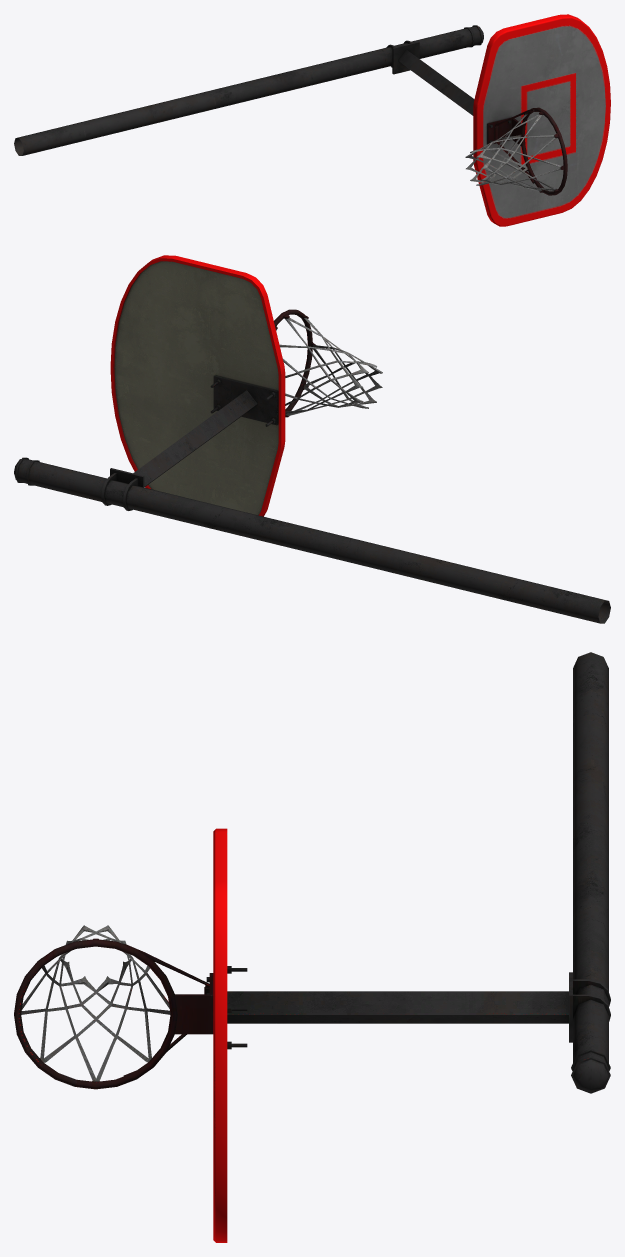
The model's file is cP_BasketballHoop.dae.
3 renders of one model, top to bottom at view 1: azimuth 30°, elevation 25°; view 2: azimuth 150°, elevation 25°; view 3: azimuth 270°, elevation 25°, orthographic. The views are drawn at different scales.
Visible parts, largest first — view 1: cP_BasketballHoop.001; view 2: cP_BasketballHoop.001; view 3: cP_BasketballHoop.001.
Boxes of the visible parts, x1,y1,x2,y2 form: cP_BasketballHoop.001: (14, 14, 610, 226); cP_BasketballHoop.001: (14, 255, 610, 623); cP_BasketballHoop.001: (14, 652, 610, 1242).
Bounding box in the file's own units: 4.09 × 2.37 × 1.56.
